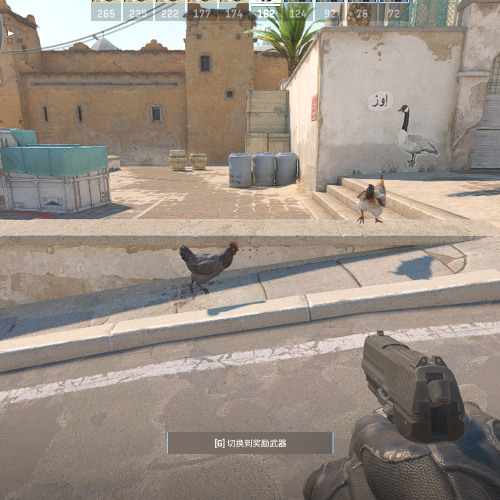chicken: (177, 241, 240, 298), (356, 177, 387, 224)
